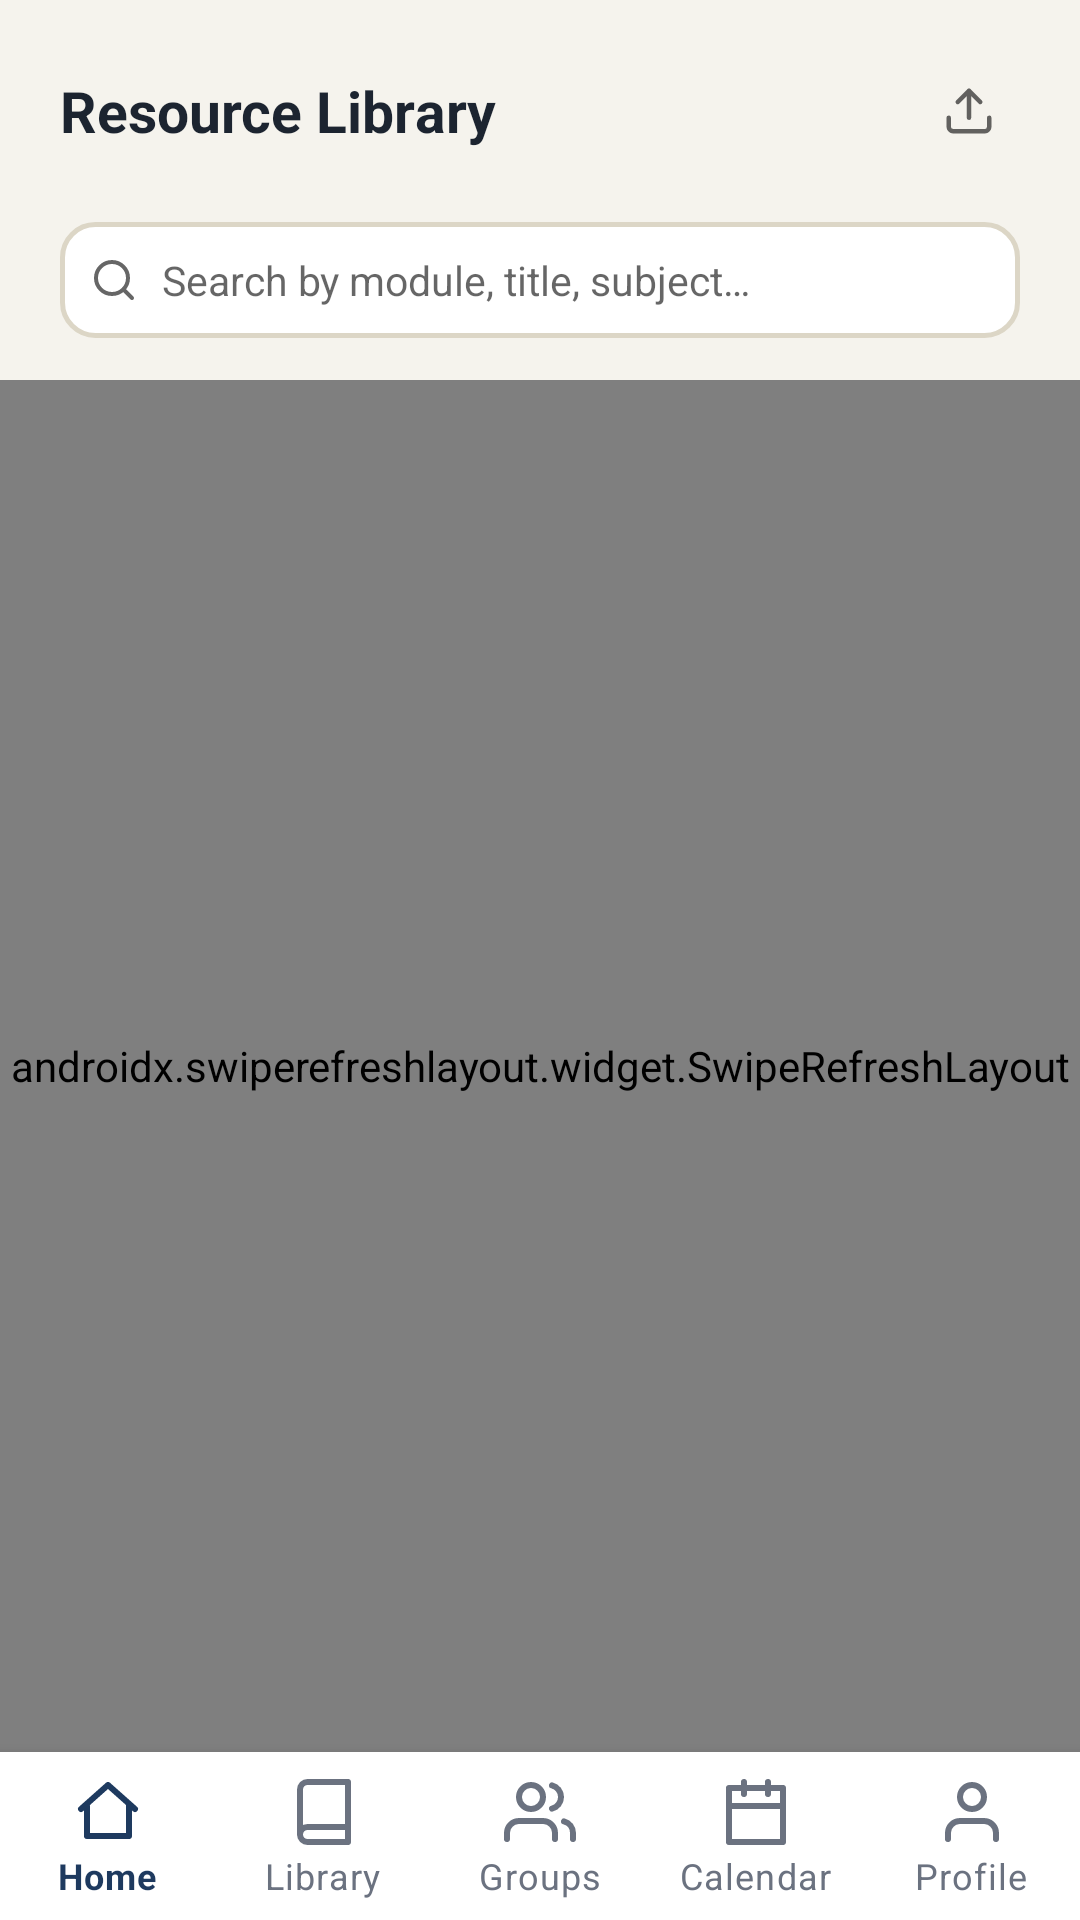

Icon click points for this 1080 x 1920 phone screenshot, format [x,y]:
upload: [969,111]
